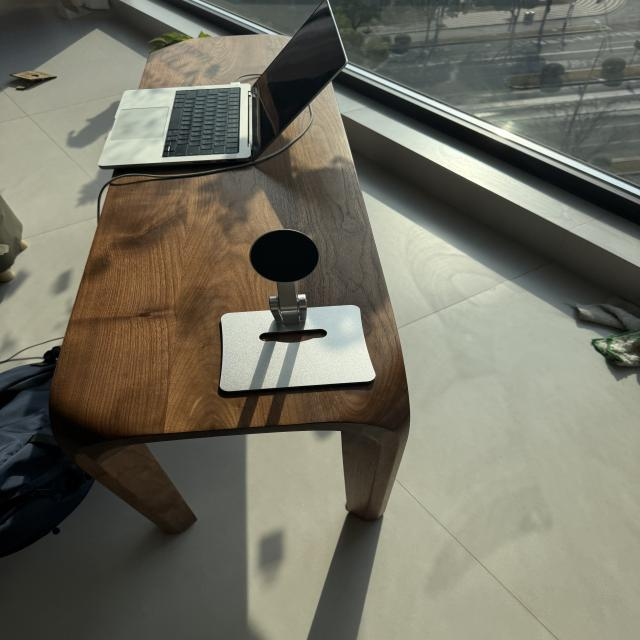phone holder: (199, 223, 383, 399)
